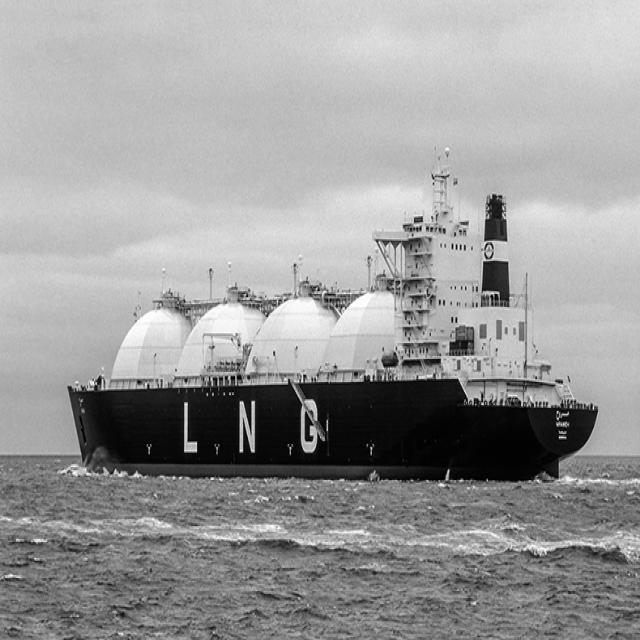LNG: (62, 151, 604, 490)
